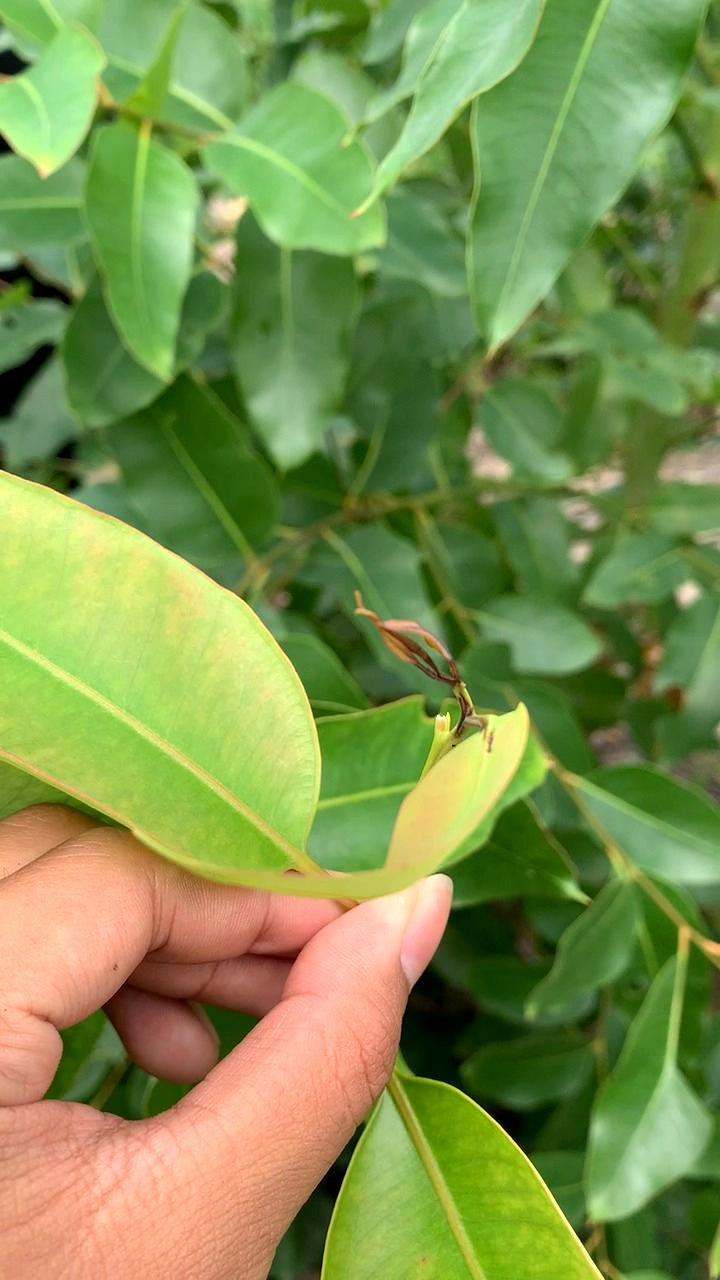Helopeltis-Withered Sprout: (350, 608, 501, 743)
